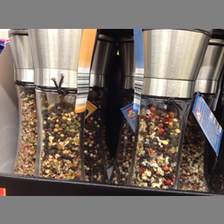spices: (126, 29, 211, 186), (28, 29, 98, 184)
